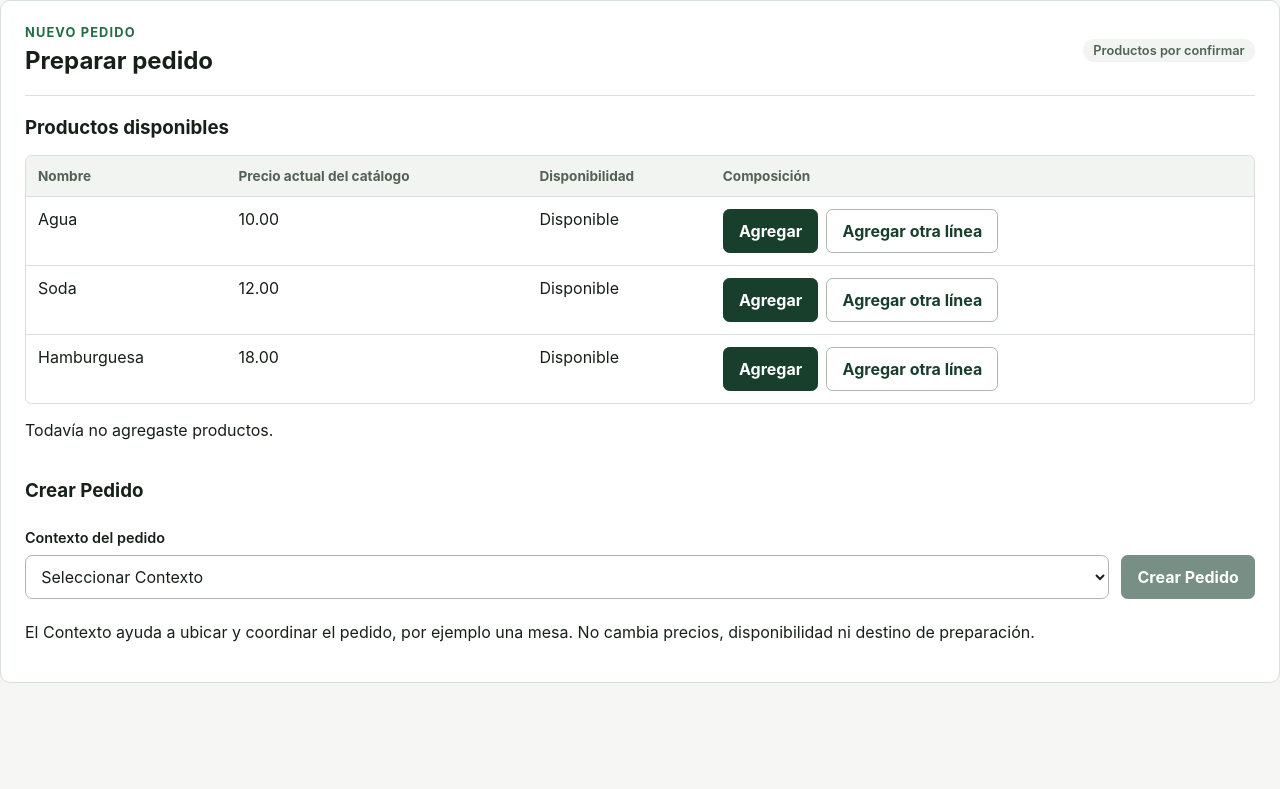
Test: OrderWorkflow - Composición y Primera Confirmación › mantiene una entry por Product y cantidades enteras positivas
Click the button with aria-label "Agregar Agua a Preparar pedido": x=771, y=231 [723,209,818,253]
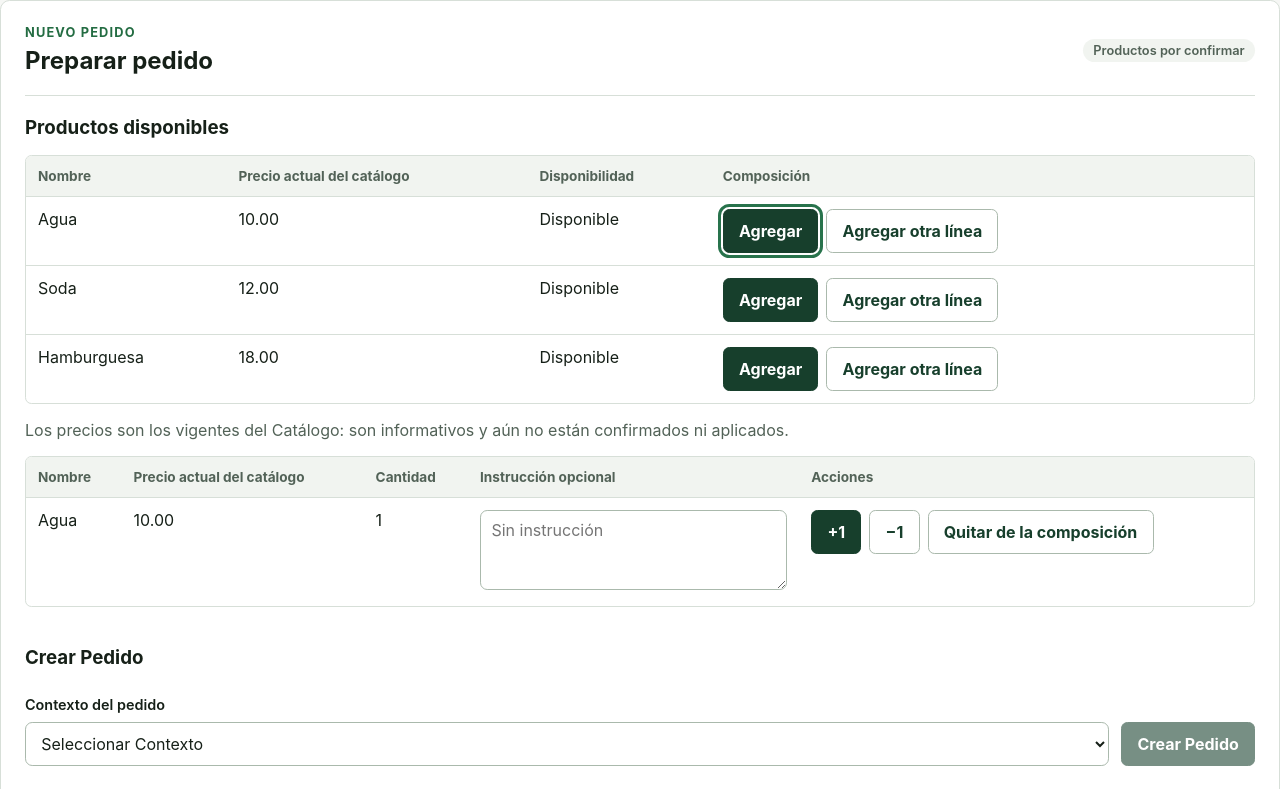
Click the button with aria-label "Agregar Agua a Preparar pedido": x=771, y=231 [723,209,818,253]
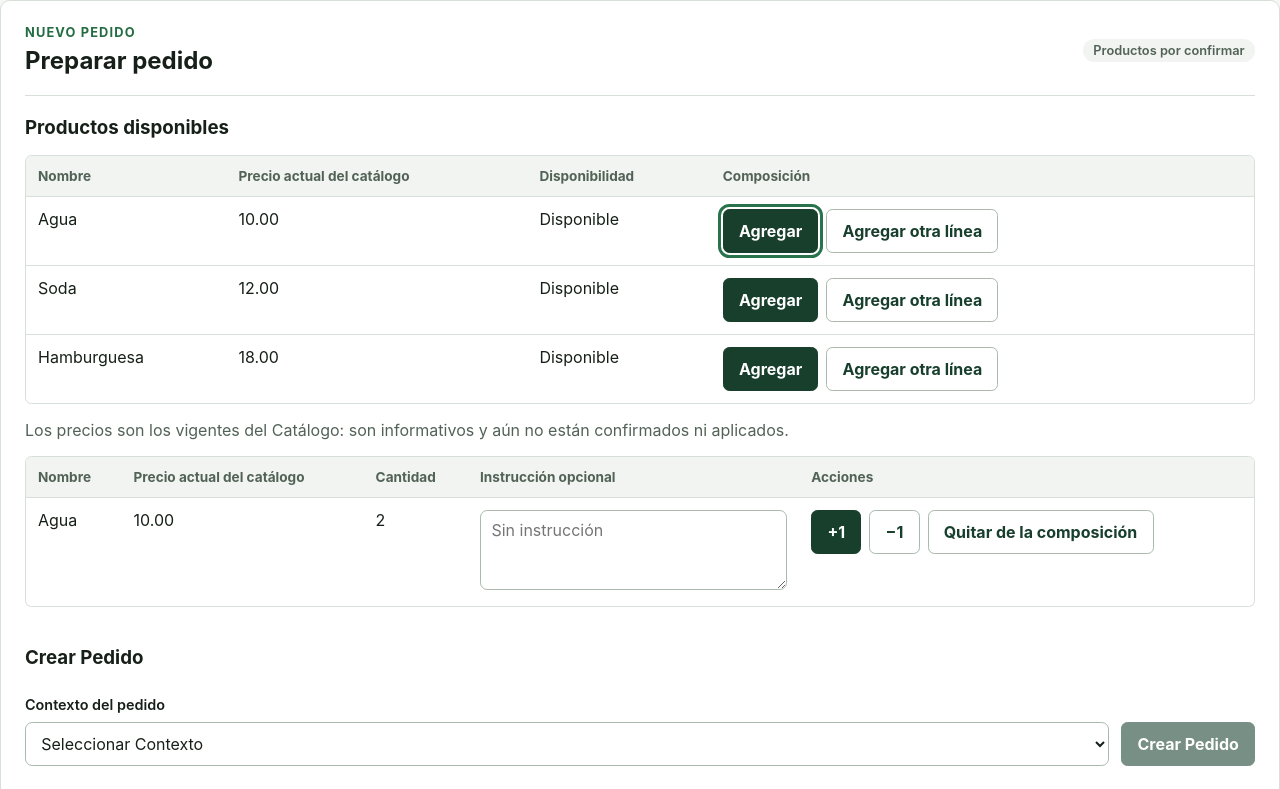
Result: the text "Agua" is shown 2 times at [26,197,226,266]; [26,498,122,606]
Result: the cell named "Cantidad de Agua" reads "2" at [376,510,385,530]
Click the button named "Disminuir cantidad de Agua, línea 1": x=894, y=532 [869,510,920,554]
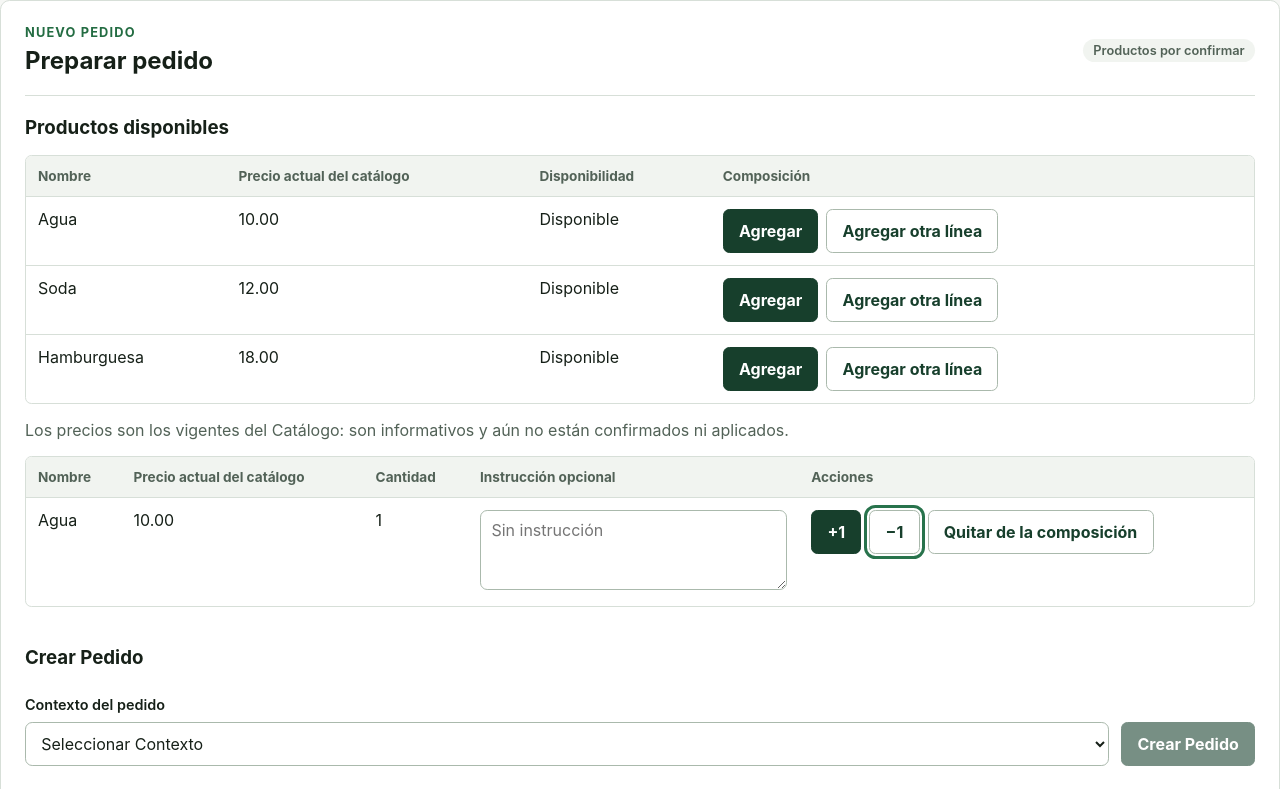
Result: the cell named "Cantidad de Agua" reads "1" at [376,510,382,530]
Click the button named "Disminuir cantidad de Agua, línea 1": x=894, y=532 [869,510,920,554]
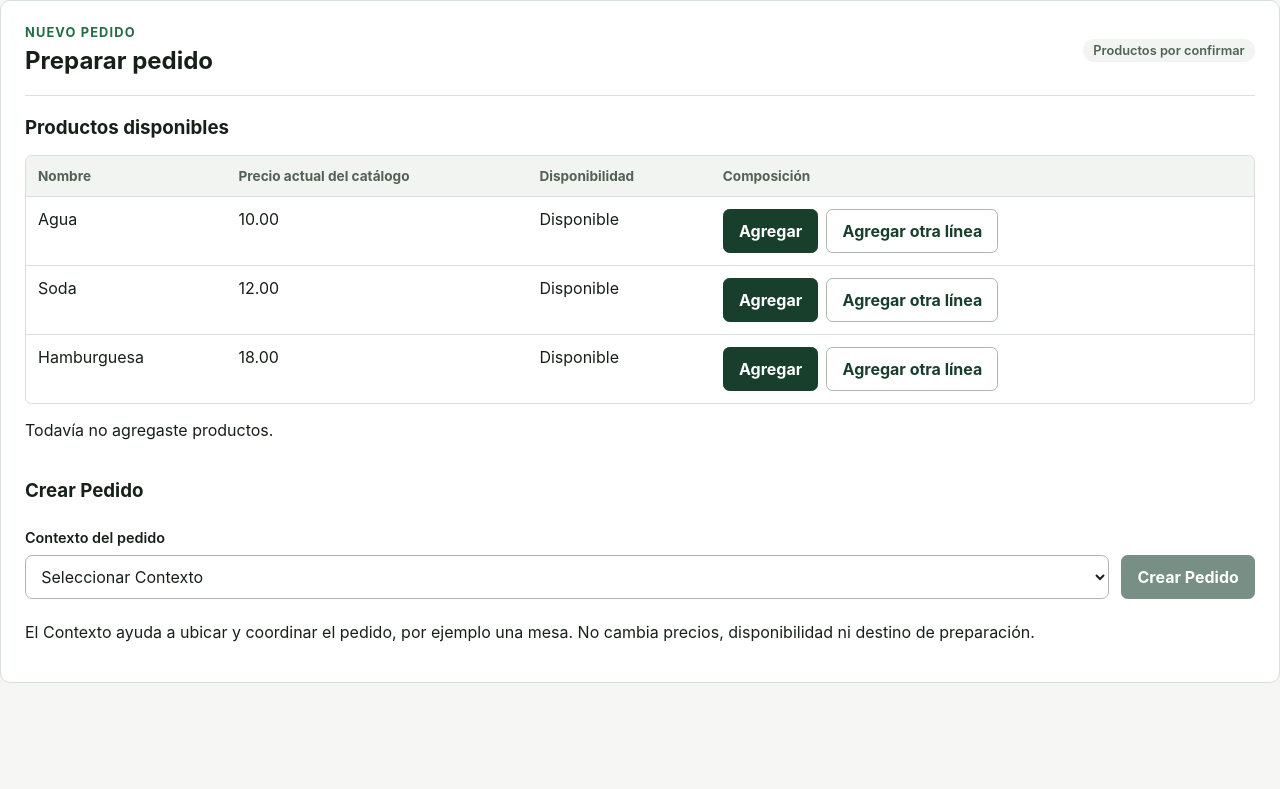
Result: the text "Todavía no agregaste productos." is shown at [25,420,273,440]
